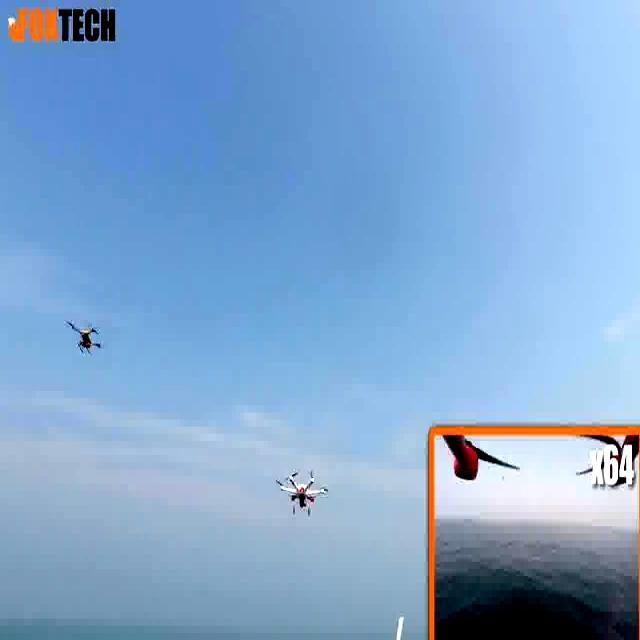drone: (274, 466, 328, 516), (65, 316, 106, 359)
